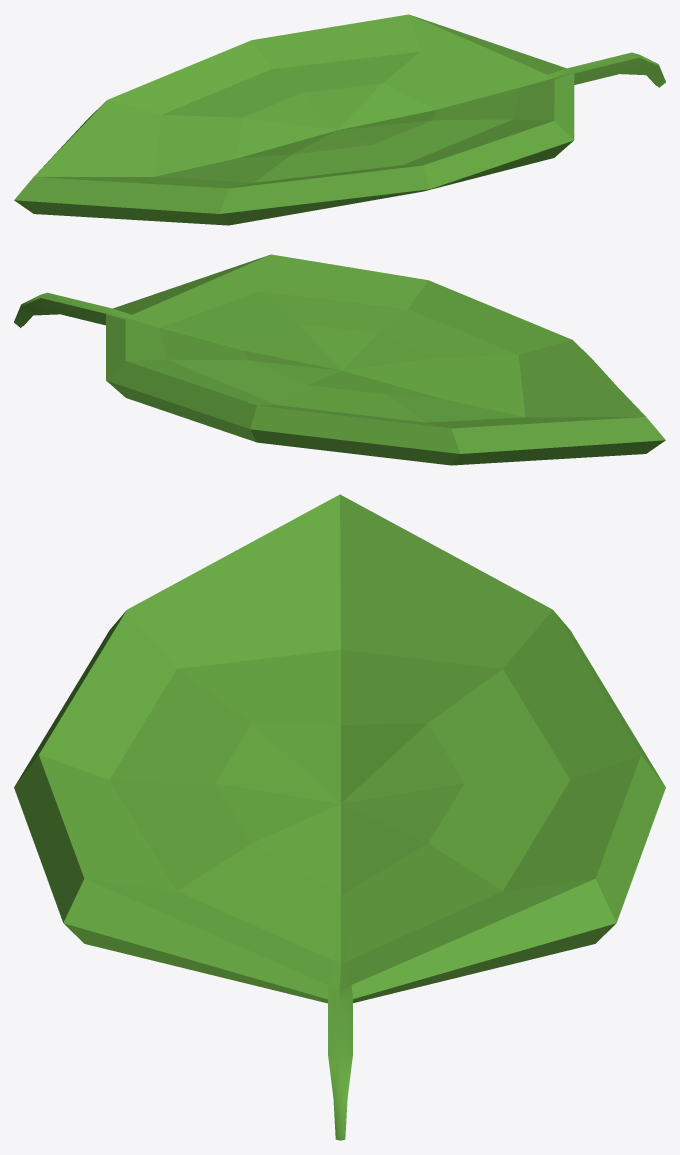
The model's file is Leaf.fbx.
3 renders of one model, top to bottom at view 1: azimuth 30°, elevation 25°; view 2: azimuth 150°, elevation 25°; view 3: azimuth 270°, elevation 25°, orthographic. The views are drawn at different scales.
Visible parts, largest first — view 1: pSphere1; view 2: pSphere1; view 3: pSphere1.
Part boxes in pixels (x1=…): pSphere1: x1=14, y1=14, x2=665, y2=225; pSphere1: x1=14, y1=254, x2=665, y2=465; pSphere1: x1=14, y1=494, x2=665, y2=1140.
Size of the model in its own units: 0.0336 by 0.00307 by 0.0165.
